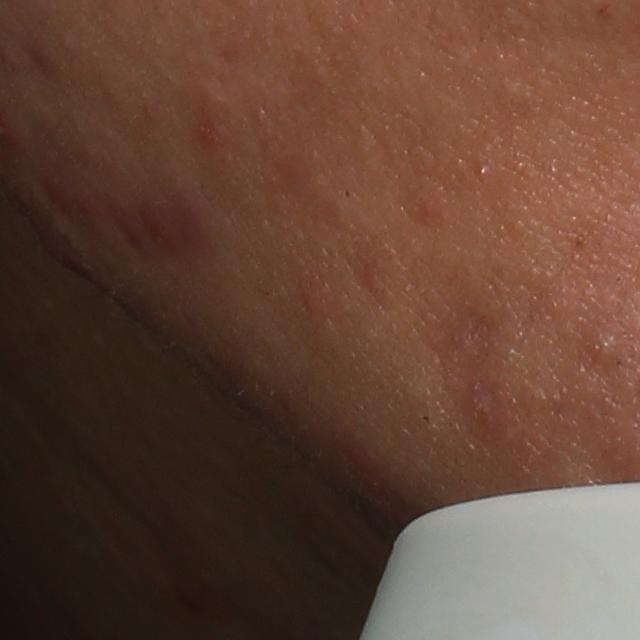comedo: (584, 332, 622, 372)
papule: (140, 198, 182, 253), (199, 119, 225, 146)
